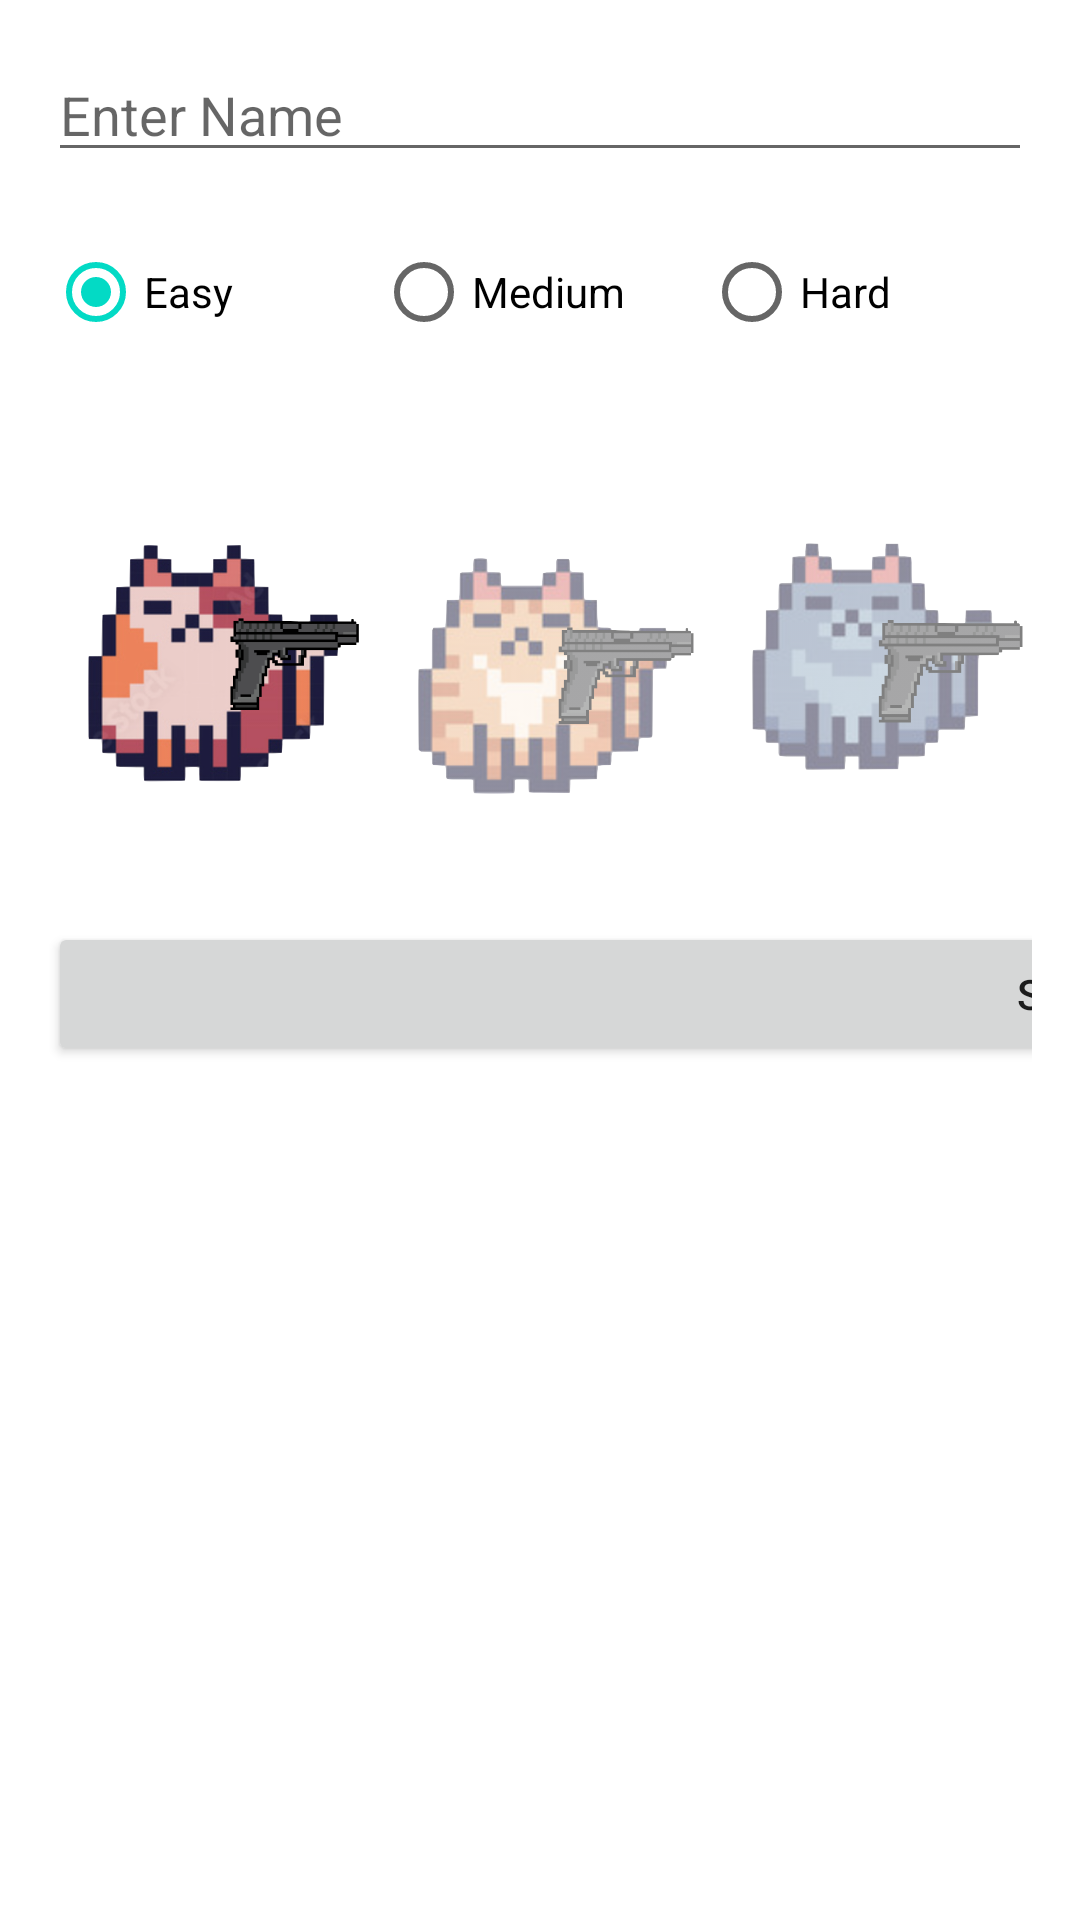

Where icons sit on this 1080 × 1920 app screen, as (x1, y1, x2, y2):
character: (752, 543, 1023, 770), (88, 545, 359, 782), (418, 558, 694, 794)
